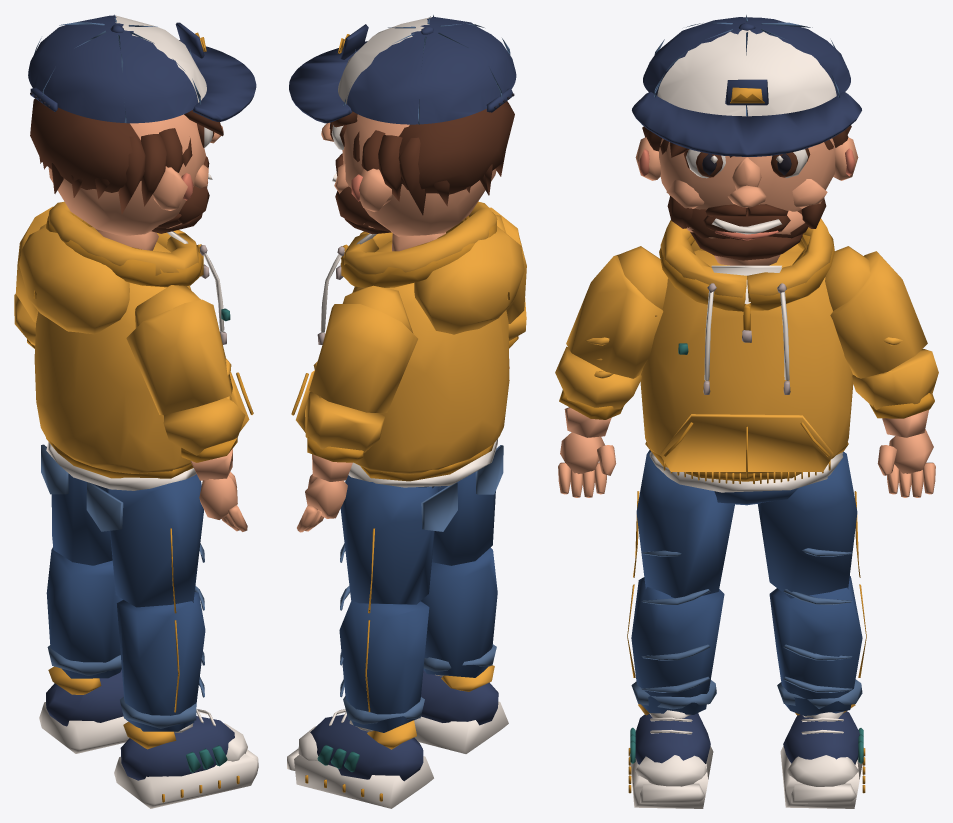
3 renders of one model, left to right at view 1: azimuth 30°, elevation 25°; view 2: azimuth 150°, elevation 25°; view 3: azimuth 270°, elevation 25°, orthographic.
Visible parts, largest first — view 1: head, torso, shinR, legR, armR, footR, shinL, footL, foreArmR, legL, hip, handR (+2 smaller); view 2: head, torso, shinL, legL, armL, footL, shinR, footR, foreArmL, legR, hip, handL (+1 smaller); view 3: torso, head, shinL, shinR, legR, legL, armL, armR, footR, footL, foreArmL, foreArmR (+3 smaller).
Boxes of the visible parts, bbox=[...] form: head: bbox=[28, 14, 256, 250]; torso: bbox=[19, 201, 253, 490]; shinR: bbox=[117, 586, 205, 731]; legR: bbox=[106, 474, 204, 613]; armR: bbox=[126, 285, 232, 415]; footR: bbox=[114, 709, 258, 808]; shinL: bbox=[46, 547, 122, 678]; footL: bbox=[39, 666, 129, 753]; foreArmR: bbox=[163, 396, 245, 480]; legL: bbox=[51, 474, 112, 565]; hip: bbox=[41, 444, 123, 531]; handR: bbox=[199, 472, 247, 531]; head: bbox=[289, 15, 516, 251]; torso: bbox=[291, 201, 524, 487]; shinL: bbox=[339, 586, 429, 732]; legL: bbox=[340, 475, 438, 613]; armL: bbox=[309, 285, 417, 412]; footL: bbox=[287, 709, 433, 808]; shinR: bbox=[421, 547, 497, 677]; footR: bbox=[414, 665, 508, 753]; foreArmL: bbox=[305, 391, 384, 481]; legR: bbox=[432, 472, 495, 565]; hip: bbox=[418, 445, 503, 531]; handL: bbox=[297, 474, 347, 532]; torso: bbox=[640, 218, 853, 492]; head: bbox=[632, 15, 861, 265]; shinL: bbox=[769, 576, 866, 715]; shinR: bbox=[627, 577, 724, 714]; legR: bbox=[633, 450, 734, 597]; legL: bbox=[758, 451, 860, 598]; armL: bbox=[825, 246, 927, 378]; armR: bbox=[566, 246, 668, 378]; footR: bbox=[628, 704, 713, 808]; footL: bbox=[780, 704, 865, 808]; foreArmL: bbox=[852, 349, 938, 437]; foreArmR: bbox=[555, 346, 641, 437].
Bounding box in the file's own units: 0.5293 × 1.8 × 0.8383.
